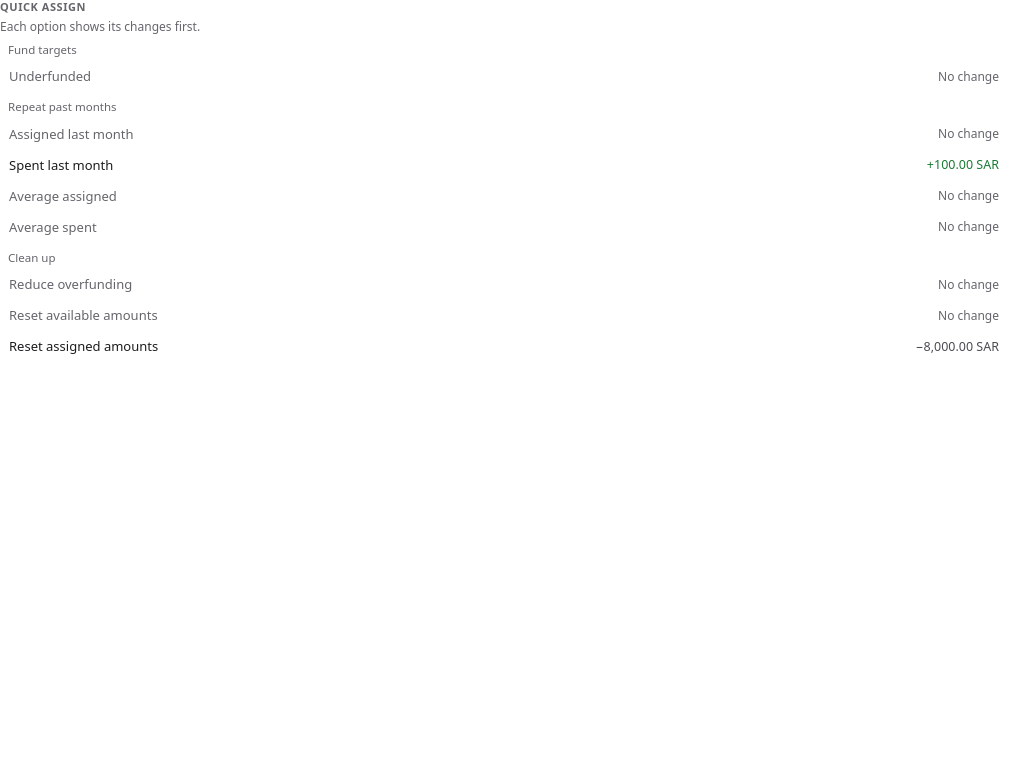
Test: does not invent Available amounts when the resulting summary is incomplete
expect the text "+100.00 SAR" is shown: met, box [927, 156, 999, 174]
Click the button "Spent last month +100.00 SAR". click: (61, 165)
box: [0, 150, 1023, 180]
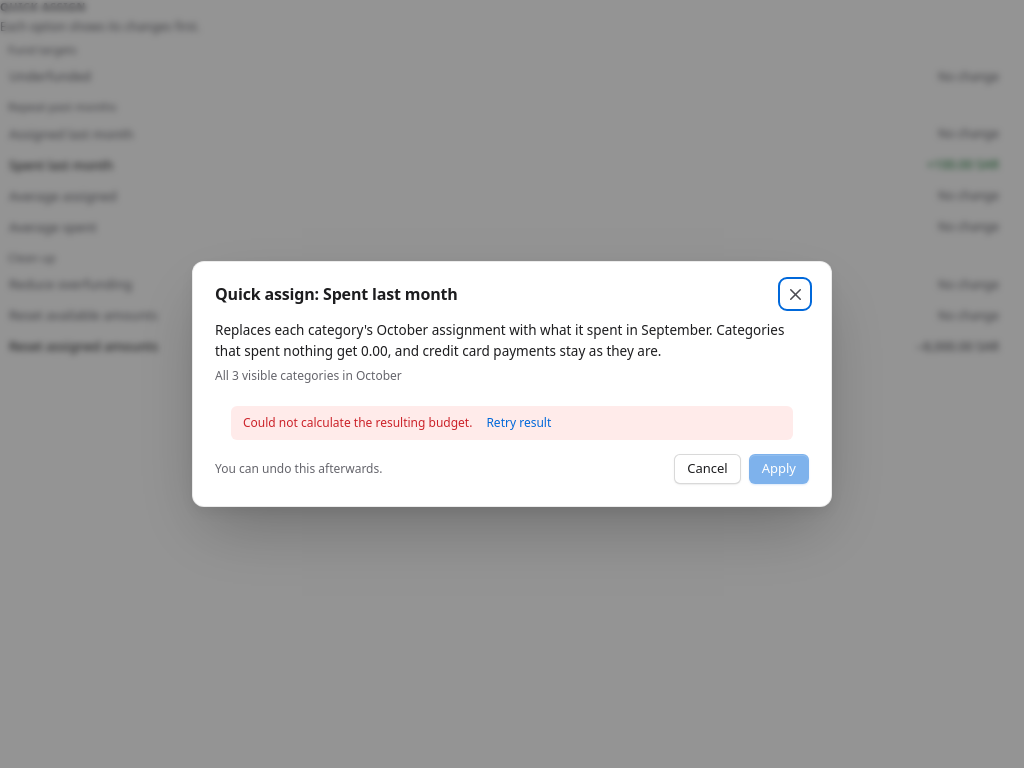
expect the button "Retry result" is shown: met, box [482, 414, 555, 432]
expect the button "Apply" is disabled: met, box [749, 454, 809, 484]
